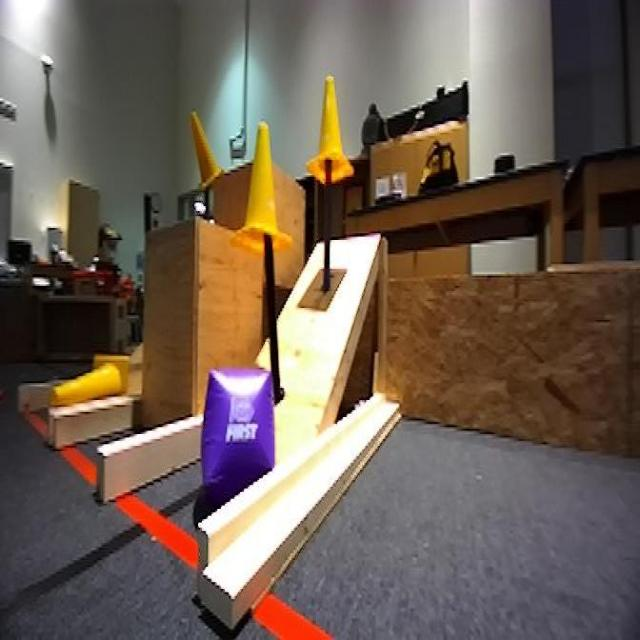frc_cone: (236, 128, 292, 250), (308, 75, 353, 187), (58, 351, 132, 414), (191, 100, 225, 194)
frc_cube: (192, 362, 277, 506)
